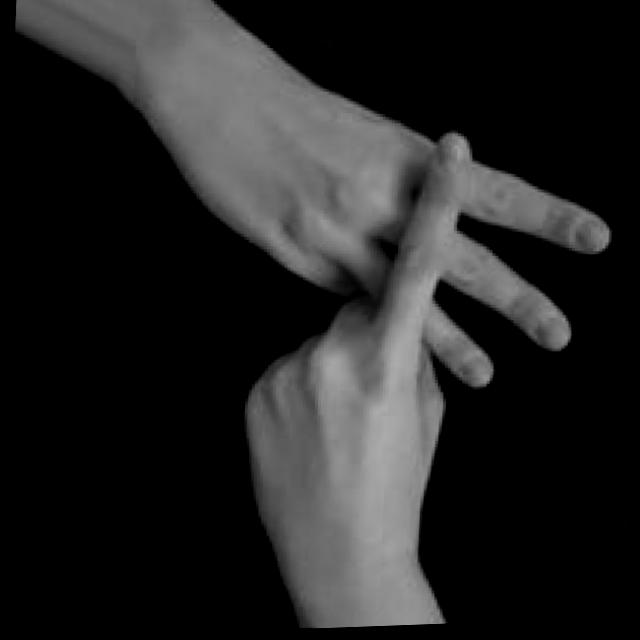E: (226, 27, 628, 572)
